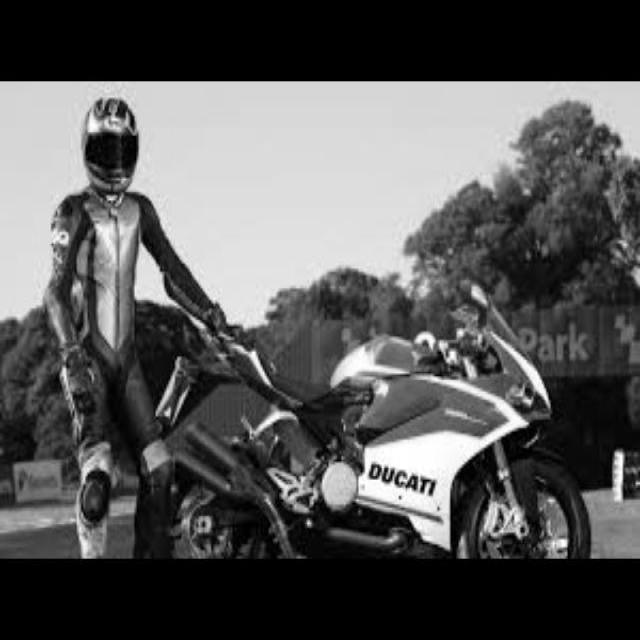5_casco: (80, 95, 140, 196)
